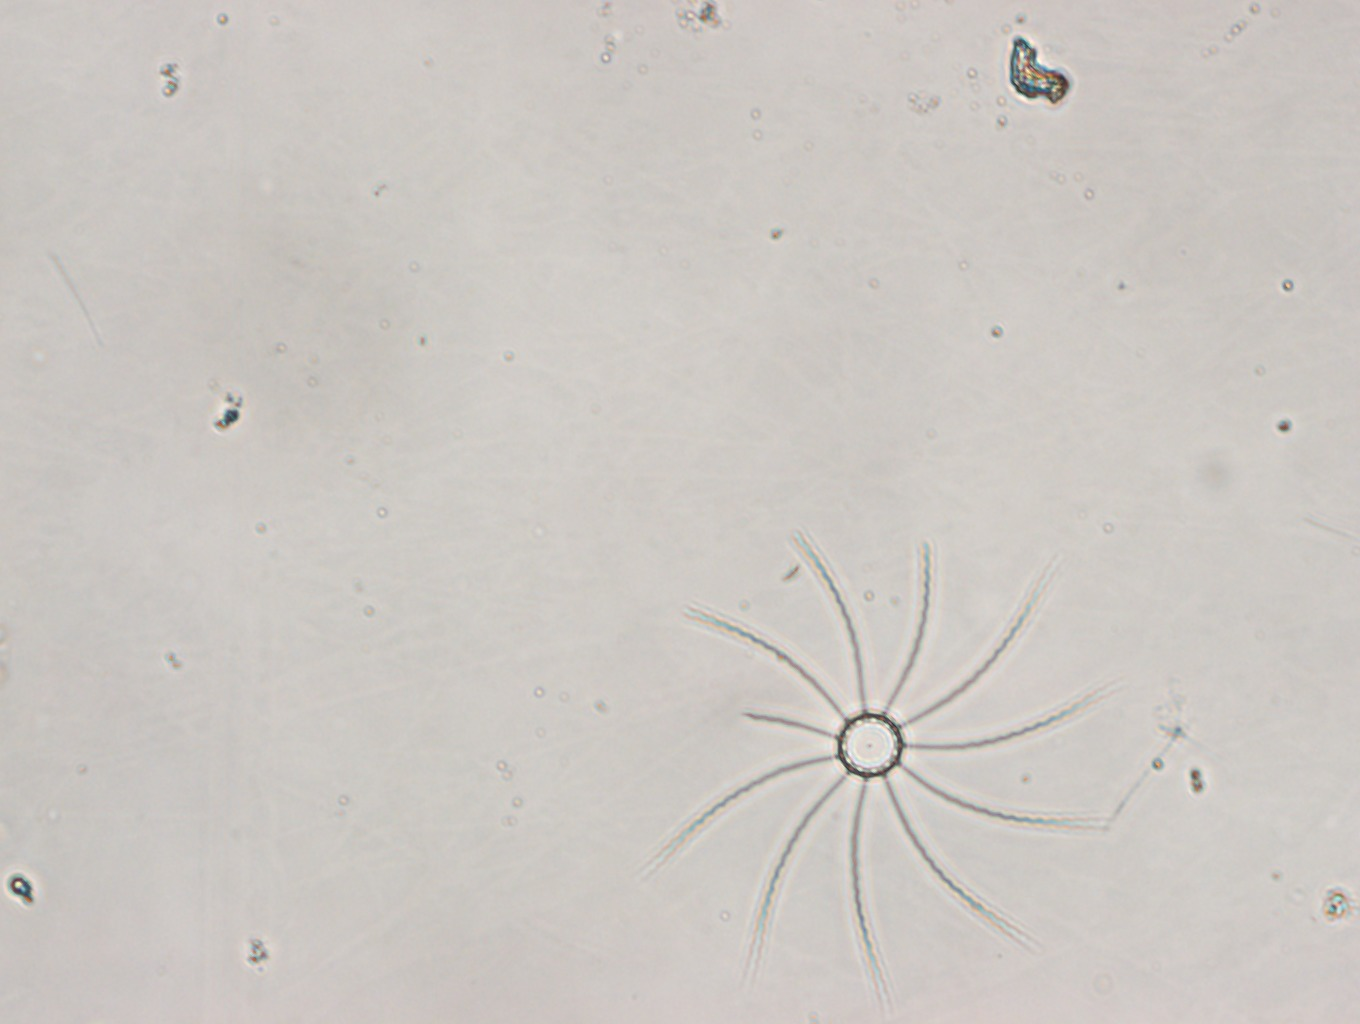bacteriastrum: (643, 520, 1126, 998)
